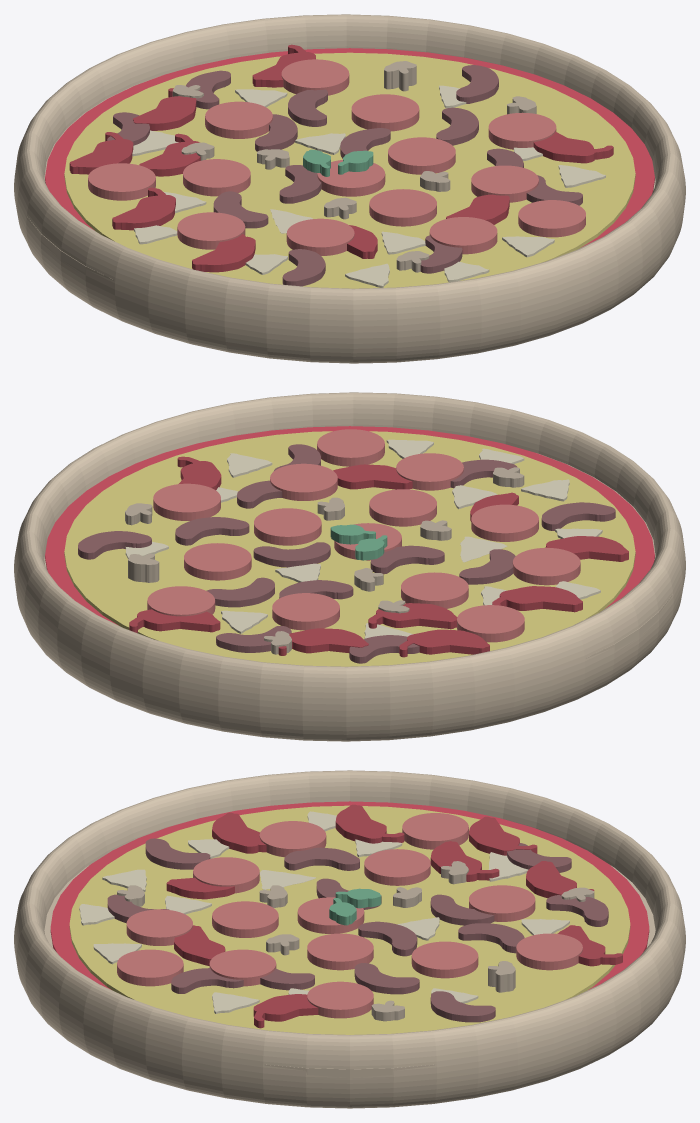
The model's file is Ruby O - Pizza.glb.
3 views of the same model, one above another, from view 1: azimuth 30°, elevation 25°; view 2: azimuth 150°, elevation 25°; view 3: azimuth 270°, elevation 25° (orthographic).
Parts seen in each view (by area): view 1: Mesh_Mesh_head_geo.001_lambert2SG.001; view 2: Mesh_Mesh_head_geo.001_lambert2SG.001; view 3: Mesh_Mesh_head_geo.001_lambert2SG.001.
Boxes of the visible parts, x1,y1,x2,y2 form: Mesh_Mesh_head_geo.001_lambert2SG.001: (14,14,685,363); Mesh_Mesh_head_geo.001_lambert2SG.001: (14,392,685,741); Mesh_Mesh_head_geo.001_lambert2SG.001: (14,770,685,1108).
Size of the model in its own units: 0.1228 by 0.015 by 0.1258.
